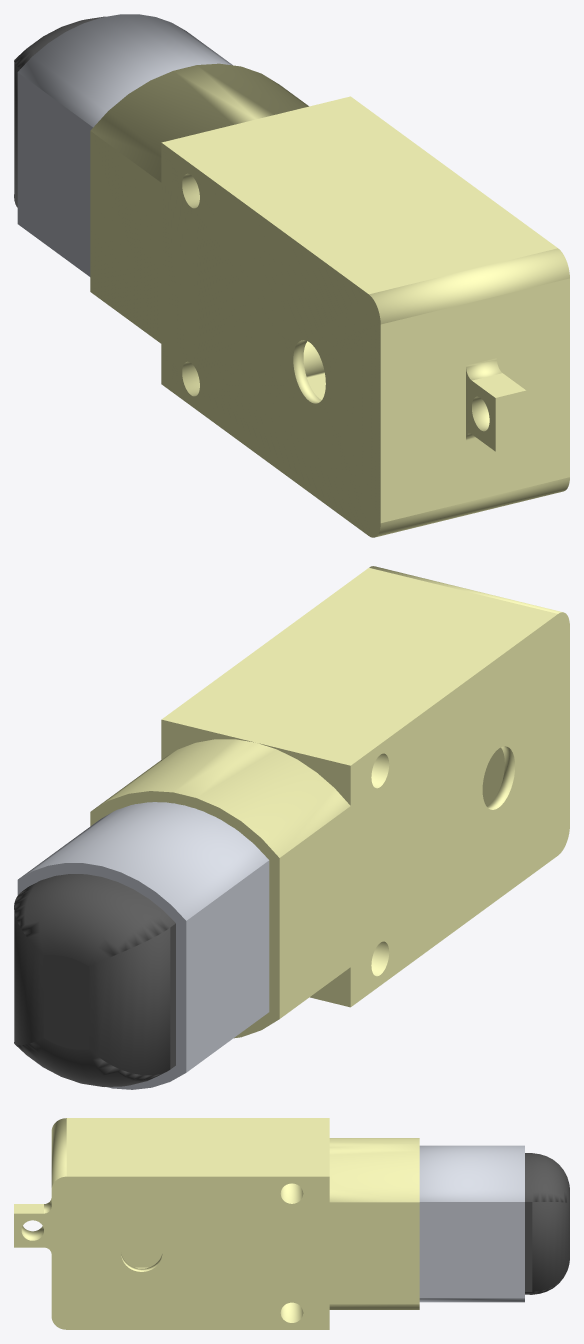
The model's file is motor_right.dae.
3 views of the same model, one above another, from view 1: azimuth 30°, elevation 25°; view 2: azimuth 150°, elevation 25°; view 3: azimuth 270°, elevation 25° (orthographic). The views are drawn at different scales.
Visible parts, largest first — view 1: _ncl1_3; view 2: _ncl1_3; view 3: _ncl1_3.
Boxes of the visible parts, box(x1,y1,x2,y2) form: _ncl1_3: box(14, 14, 569, 537); _ncl1_3: box(14, 566, 569, 1089); _ncl1_3: box(14, 1118, 569, 1329).
Bounding box in the file's own units: 0.0184 × 0.074 × 0.0225.
